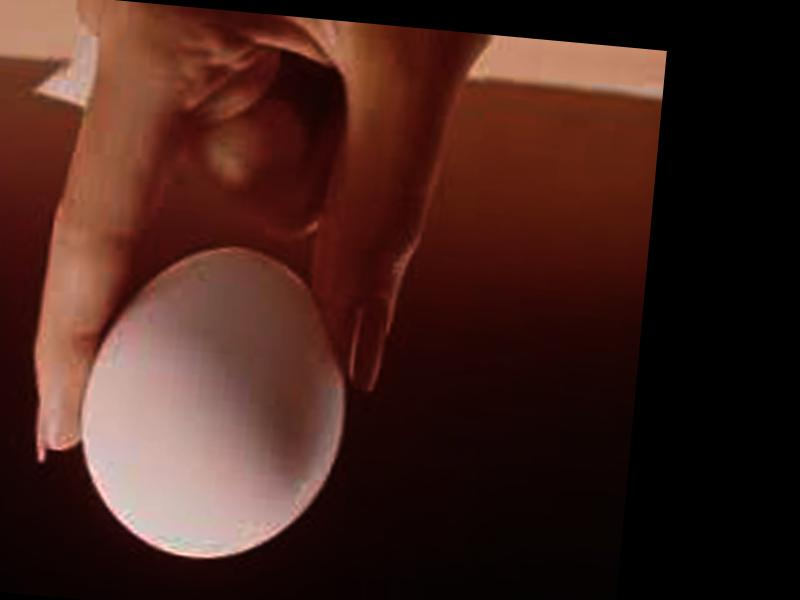Eggs: (66, 232, 360, 572)
